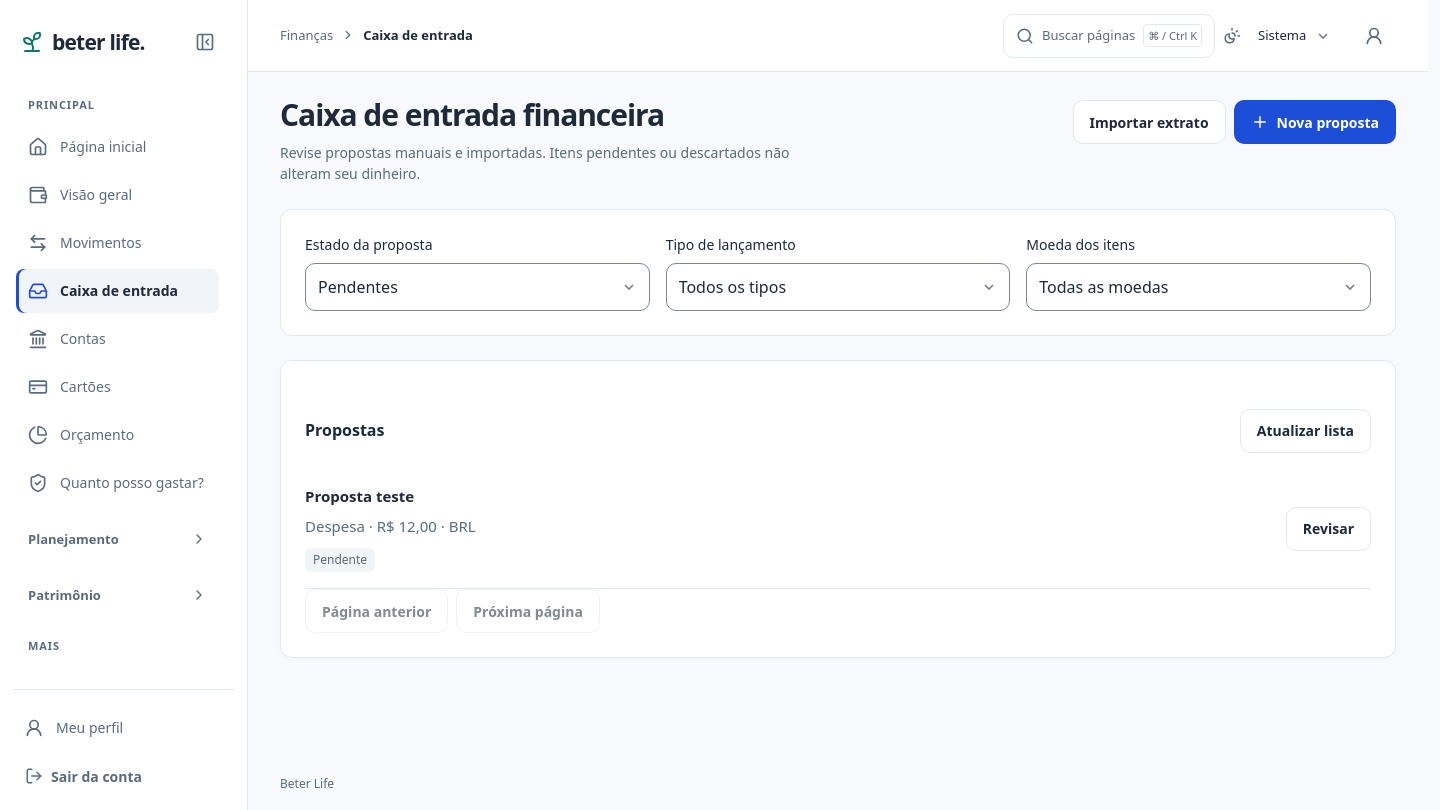
Test: Inbox protected UI with generated transport contracts › rejects stale confirmation without presenting a false success
Click the button with aria-label "Revisar Proposta teste".
click(1328, 529)  # box [1286,507,1371,551]
(page scrolled)
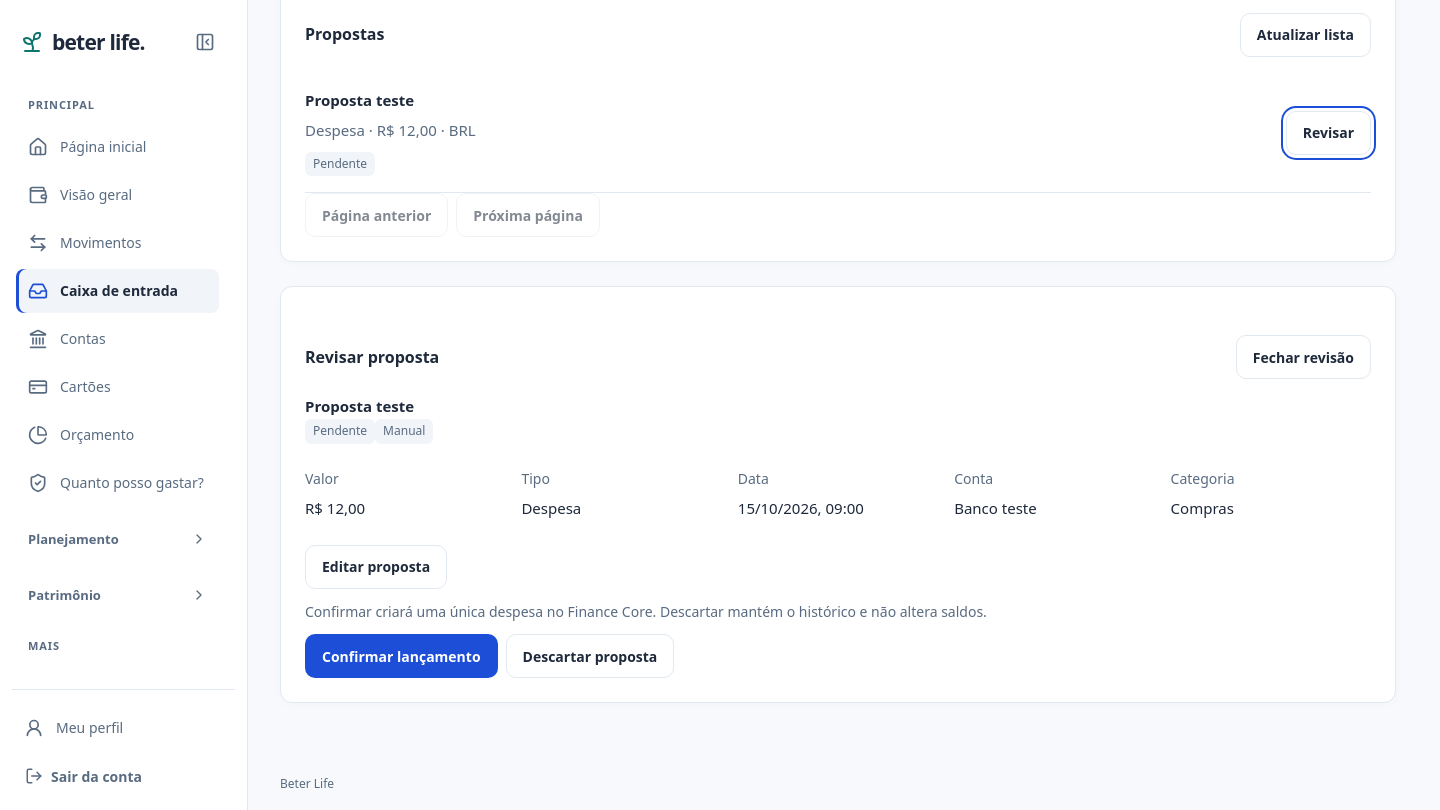
Click the button "Confirmar lançamento".
click(401, 656)  # box [305,634,498,678]
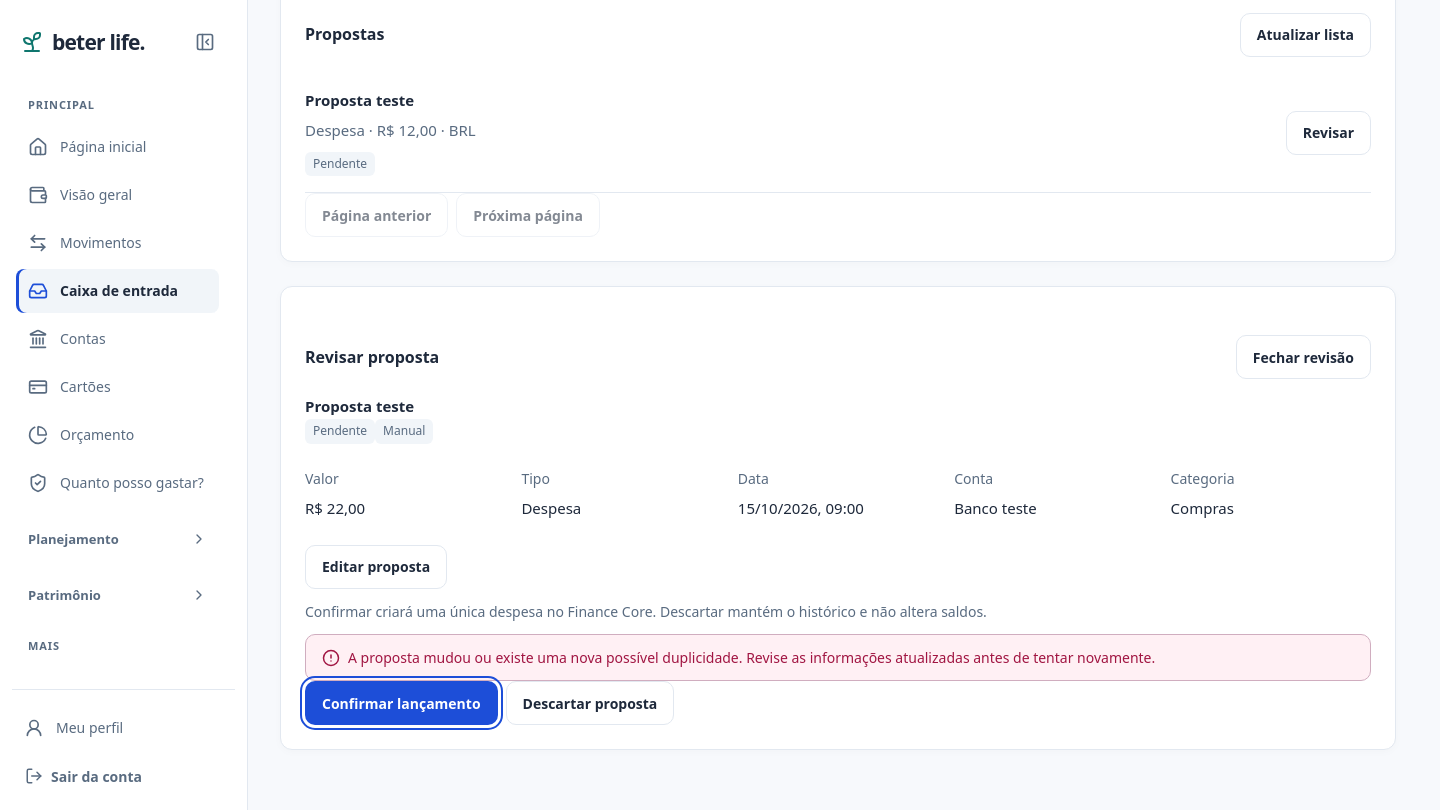
Now the text "A proposta mudou" is shown, box [348,648,1155,667]
